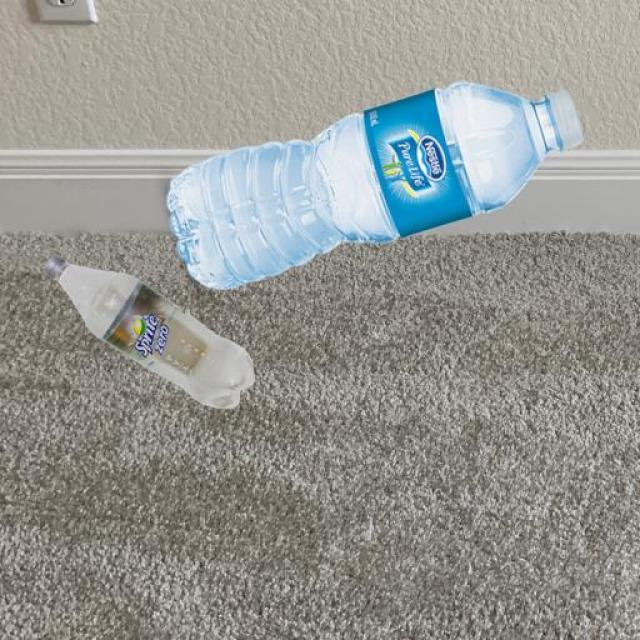bottle: (156, 76, 586, 293), (41, 250, 259, 417)
